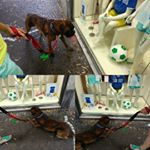puppy: (21, 11, 78, 61)
